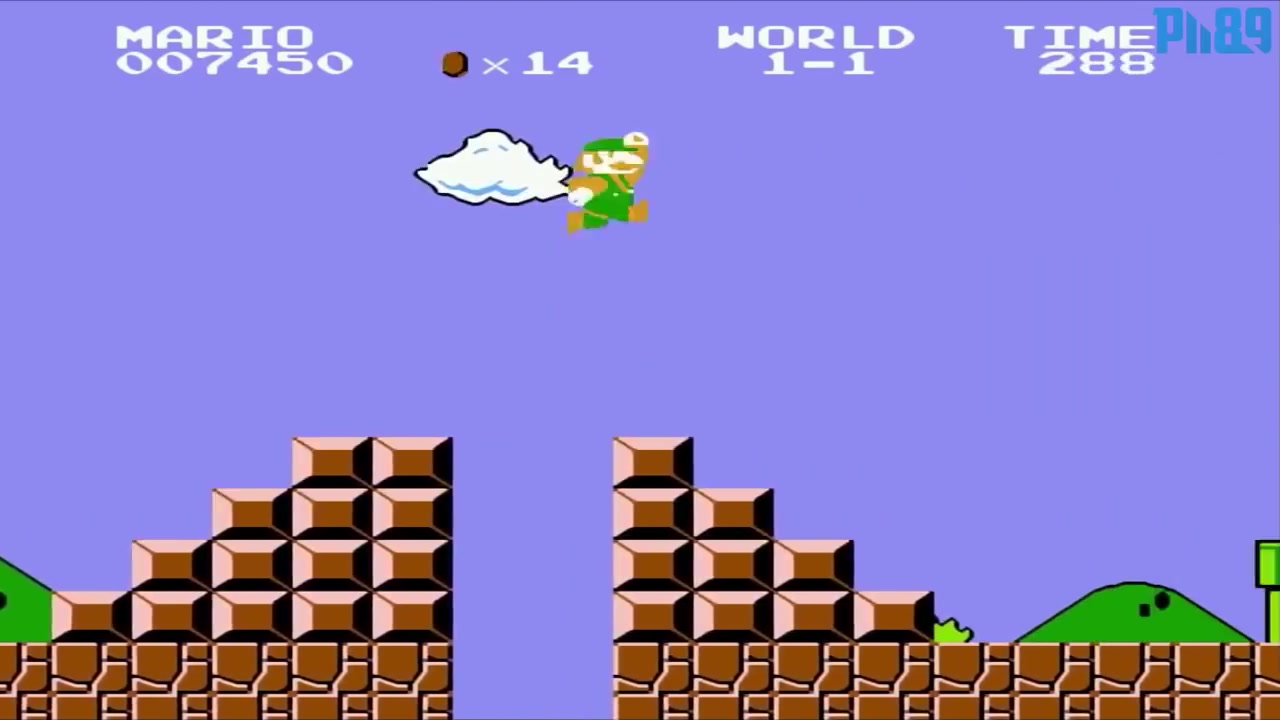mario: (566, 130, 669, 238)
